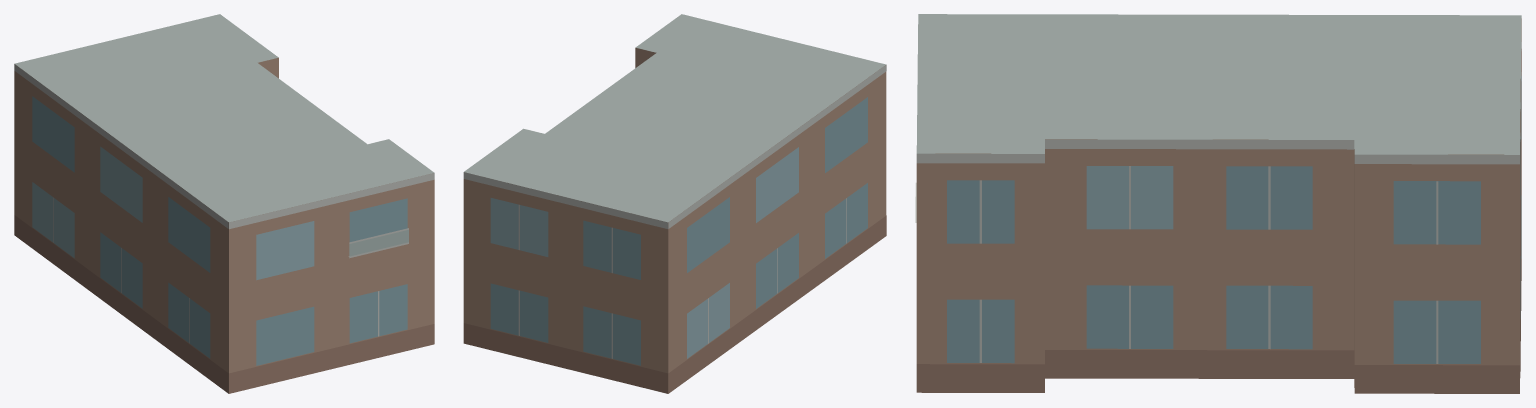
File: survey-upis-32913364.glb
The picture shows the model from 3 angles, left to right: view 1: azimuth 30°, elevation 25°; view 2: azimuth 150°, elevation 25°; view 3: azimuth 270°, elevation 25°; orthographic projection. The views are drawn at different scales.
Visible parts, largest first — view 1: survey-upis-32913364.tmp; view 2: survey-upis-32913364.tmp; view 3: survey-upis-32913364.tmp.
Part boxes in pixels (bbox=[...]): survey-upis-32913364.tmp: bbox=[14, 14, 434, 393]; survey-upis-32913364.tmp: bbox=[463, 14, 886, 393]; survey-upis-32913364.tmp: bbox=[915, 14, 1521, 393].
Bounding box in the file's own units: 7.72 × 6.1 × 14.03.
